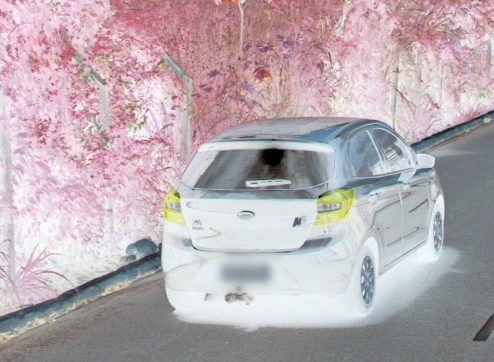car: (159, 114, 447, 319)
